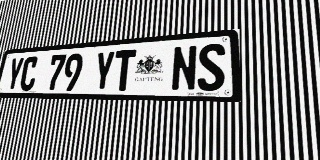7: (45, 54, 67, 91)
9: (62, 53, 84, 91)
C: (19, 56, 39, 91)
N: (171, 45, 198, 91)
S: (197, 43, 225, 91)
T: (112, 49, 136, 91)
Y: (92, 51, 116, 91), (5, 57, 25, 91)
